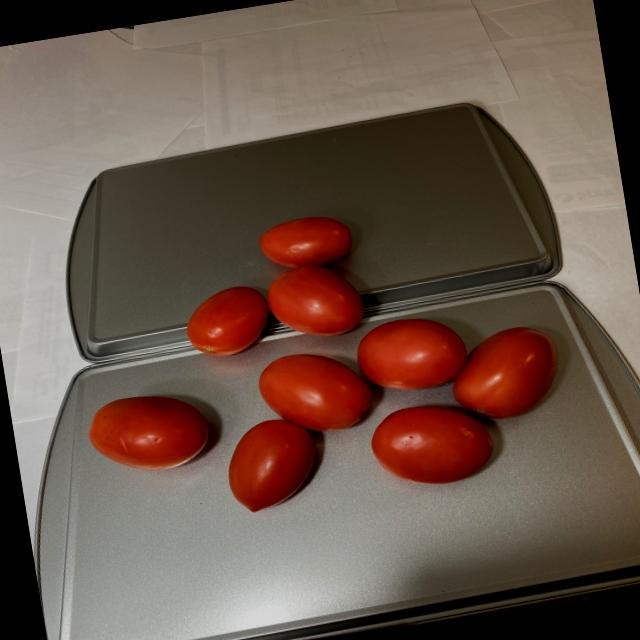tomato: (53, 176, 577, 536), (186, 242, 553, 516)
